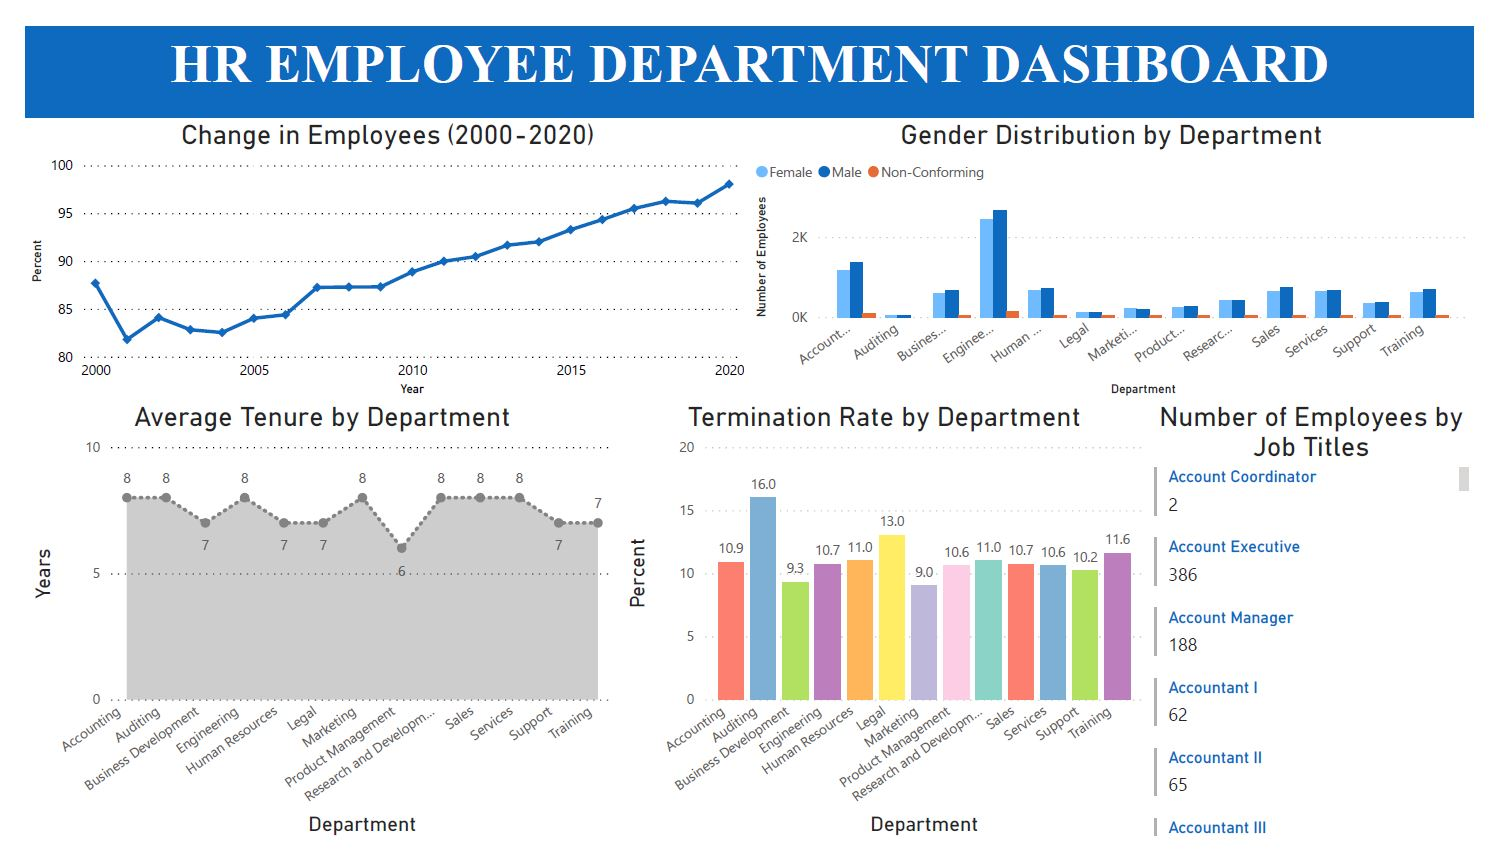

What the dashboard file says about the page in this screenshot:
{"tool":"powerbi","page":{"name":"Page 2","canvas":[1280,720],"ordinal":1},"visuals":[{"type":"textbox","box":[0,0,1280,81.6],"z":0},{"type":"lineChart","title":"Change in Employees (2000-2020)","fields":{"Y":["Sum(employee_change.net_change_percent)"],"Category":["employee_change.year"]},"box":[0,81.6,640.5,249.8],"z":1},{"type":"areaChart","title":"Average Tenure by Department","fields":{"Category":["avg_tenure.department"],"Y":["Sum(avg_tenure.avg_tenure)"]},"box":[0,331.4,524.8,388.8],"z":2},{"type":"columnChart","title":"Termination Rate by Department","fields":{"Category":["termination_rate.department"],"Y":["Sum(termination_rate.termination_rate)"]},"box":[524.8,331.4,468.5,388.8],"z":3},{"type":"multiRowCard","title":"Number of Employees by Job Titles","fields":{"Values":["gender_depts_jobtitles.jobtitle","Sum(gender_depts_jobtitles.total_employee)"]},"box":[993.3,331.4,286.7,388.8],"z":4},{"type":"clusteredColumnChart","title":"Gender Distribution by Department","fields":{"Category":["gender_depts_jobtitles.department"],"Series":["gender_depts_jobtitles.gender"],"Y":["Sum(gender_depts_jobtitles.total_employee)"]},"box":[640.5,81.6,639.5,249.8],"z":5}]}

Visuals, with their boxes in screenshot pixels (x1, y1, x2, y2), scaled from the page's 1280x720 canvas onto the 1500x866 screenshot:
textbox: <bbox>0, 0, 1499, 98</bbox>
"Change in Employees (2000-2020)" lineChart: <bbox>0, 98, 751, 399</bbox>
"Average Tenure by Department" areaChart: <bbox>0, 399, 615, 865</bbox>
"Termination Rate by Department" columnChart: <bbox>615, 399, 1164, 865</bbox>
"Number of Employees by Job Titles" multiRowCard: <bbox>1164, 399, 1499, 865</bbox>
"Gender Distribution by Department" clusteredColumnChart: <bbox>751, 98, 1499, 399</bbox>
